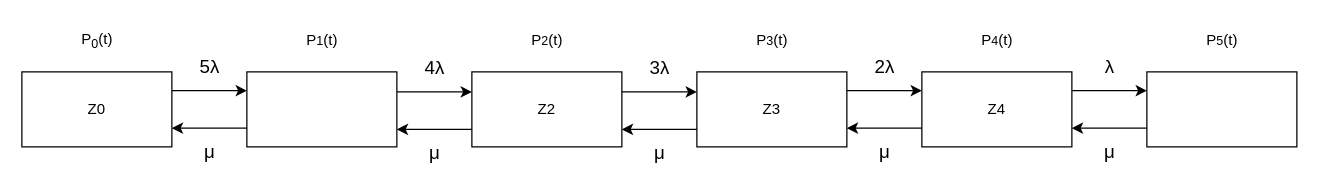
Some shapes in this 1319 by 191 pixel diagram are drawn without their labels. The centre of each missing label's shape, as x and y in pixels:
"Z1" goes at [321,109].
"Z5" goes at [1221,109].
